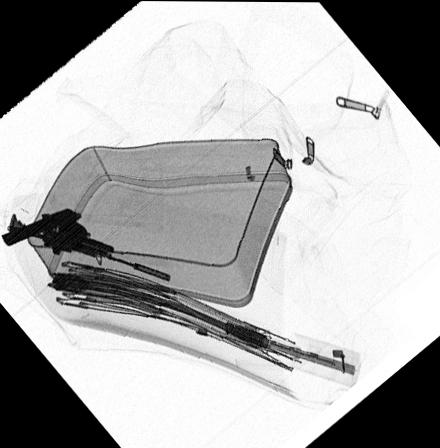Gun: (5, 212, 171, 280), (0, 204, 91, 249)
